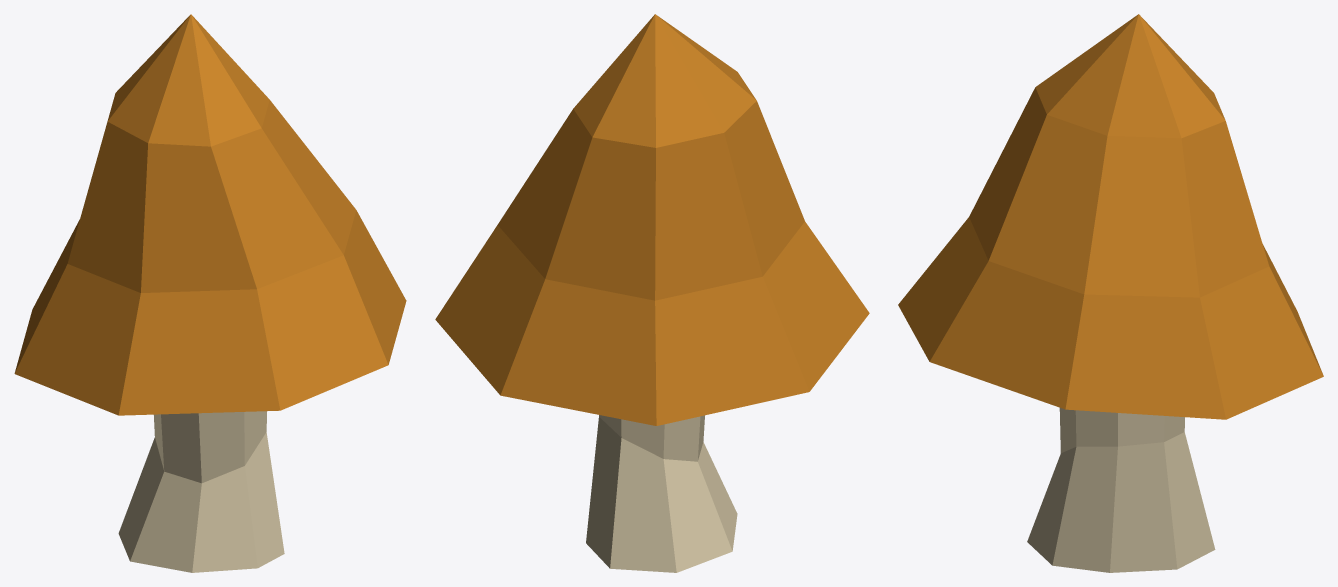
The model's file is mushroom_02.glb.
The picture shows the model from 3 angles, left to right: view 1: azimuth 30°, elevation 25°; view 2: azimuth 150°, elevation 25°; view 3: azimuth 270°, elevation 25°; orthographic projection.
Parts seen in each view (by area): view 1: Mushroom_02_LOD0; view 2: Mushroom_02_LOD0; view 3: Mushroom_02_LOD0.
Part boxes in pixels (x1,y1,x2,y2): Mushroom_02_LOD0: [14, 14, 406, 572]; Mushroom_02_LOD0: [435, 14, 869, 572]; Mushroom_02_LOD0: [898, 14, 1323, 572].
Size of what is drawn, in the model's own units: 0.1573 by 0.2299 by 0.1667.
Materials: 1 (1 with a texture image).
